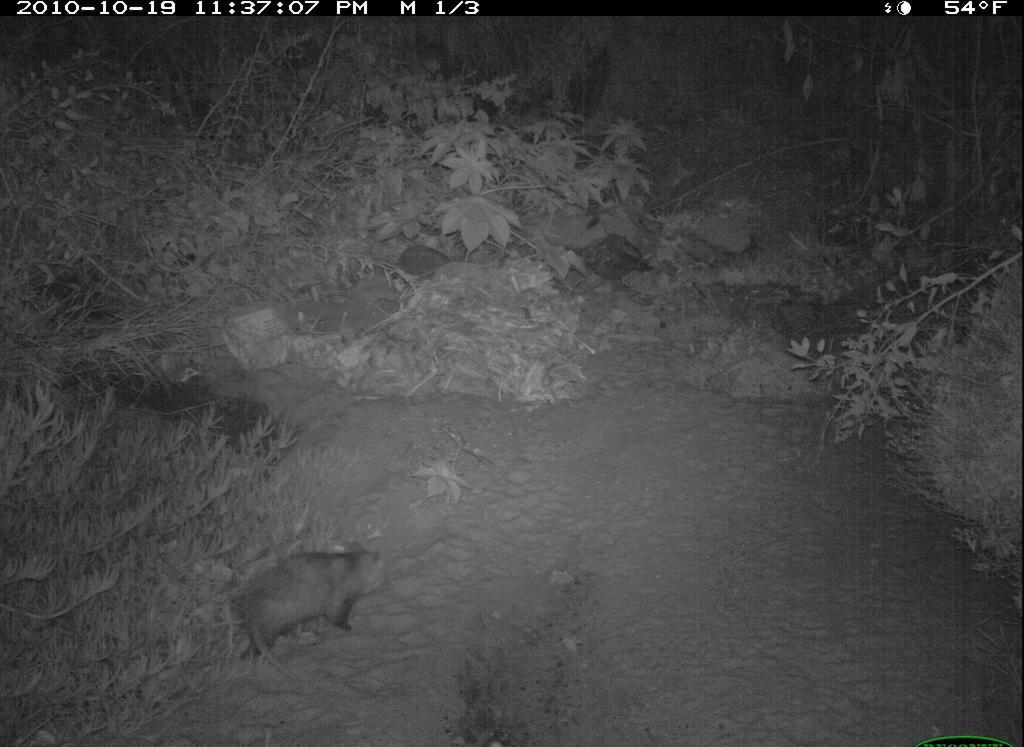opossum: (208, 525, 411, 664)
